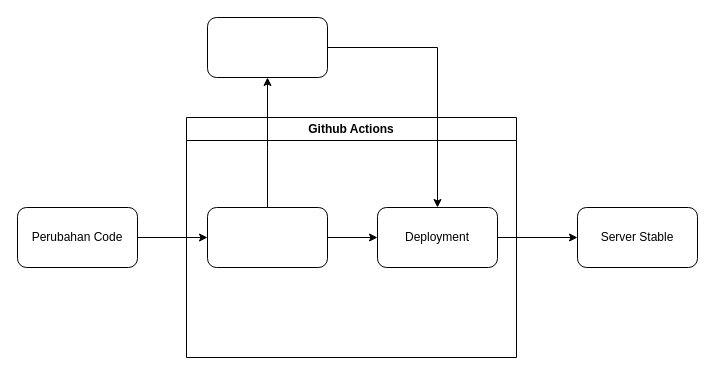
Image size: 715x375. Some labels were removed from this diagram. Each missing label, with the centre of its shape:
"Build" goes at point (267, 237).
"Registry" goes at point (267, 47).
